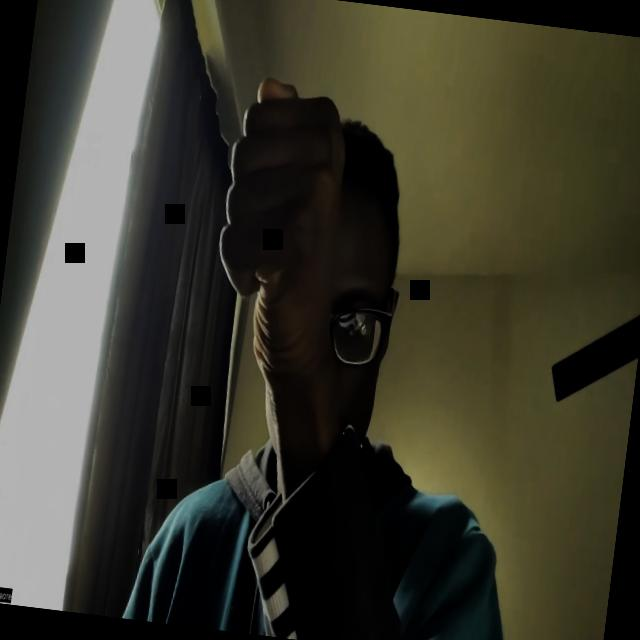Rock: (206, 71, 360, 369)
